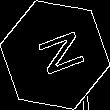N_W: (25, 28, 85, 82)
